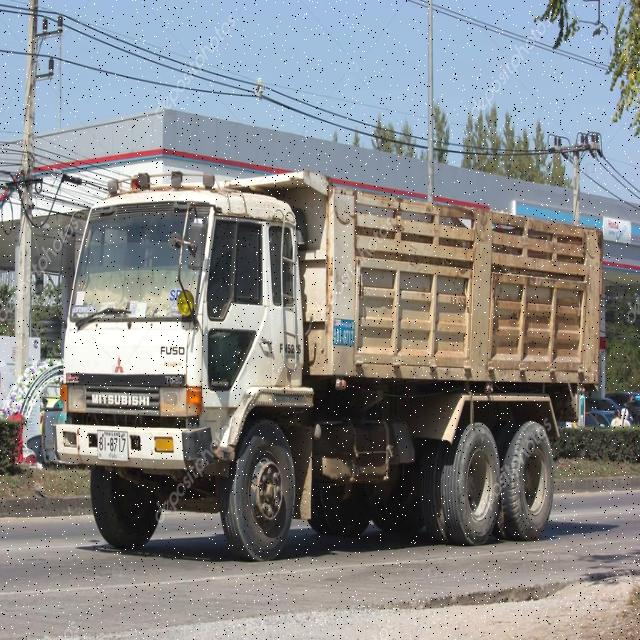truck: (51, 170, 598, 556)
